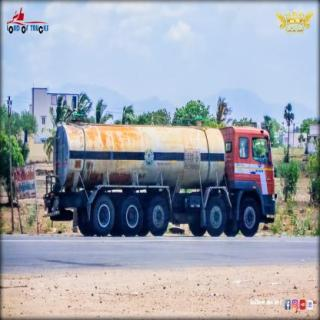Normal_vehicle: (46, 117, 280, 242)
